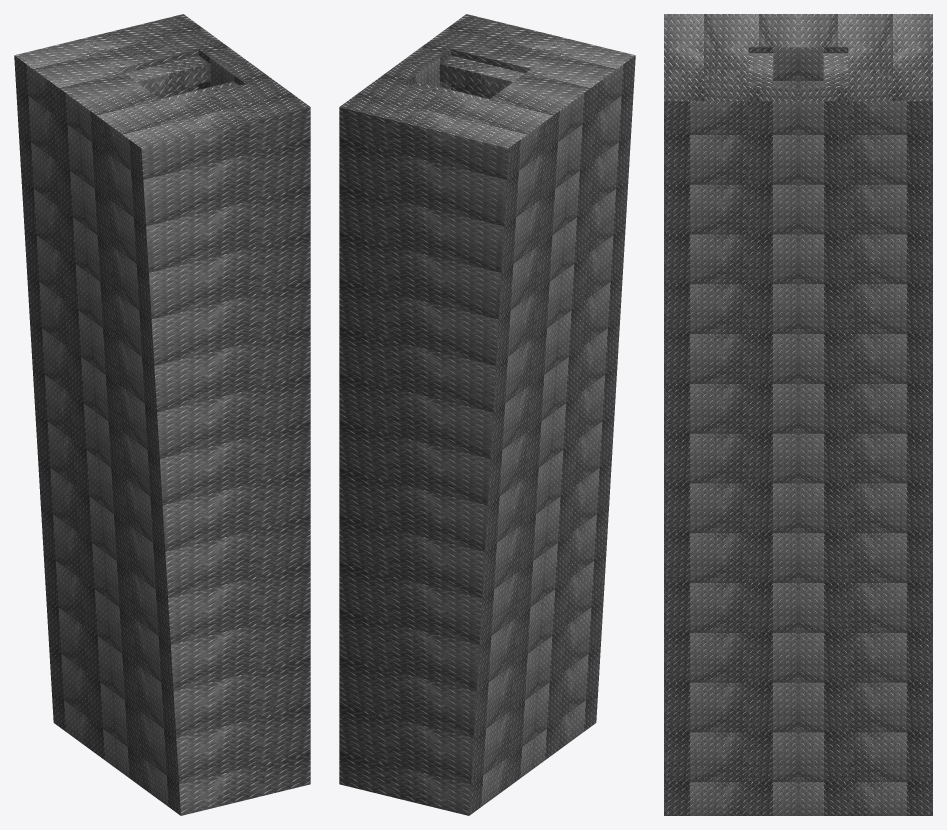
File: Env_Pit.fbx
The picture shows the model from 3 angles, left to right: view 1: azimuth 30°, elevation 25°; view 2: azimuth 150°, elevation 25°; view 3: azimuth 270°, elevation 25°; orthographic projection. The views are drawn at different scales.
Parts seen in each view (by area): view 1: Cube.002, Cube.011; view 2: Cube.002, Cube.011; view 3: Cube.002, Cube.011.
Part boxes in pixels (<box>): Cube.002: <box>14,14,310,815</box>; Cube.011: <box>125,55,238,103</box>; Cube.002: <box>339,14,635,815</box>; Cube.011: <box>411,55,524,103</box>; Cube.002: <box>664,14,932,815</box>; Cube.011: <box>748,53,848,88</box>.
Size of the model in its own units: 200 by 764 by 260.
